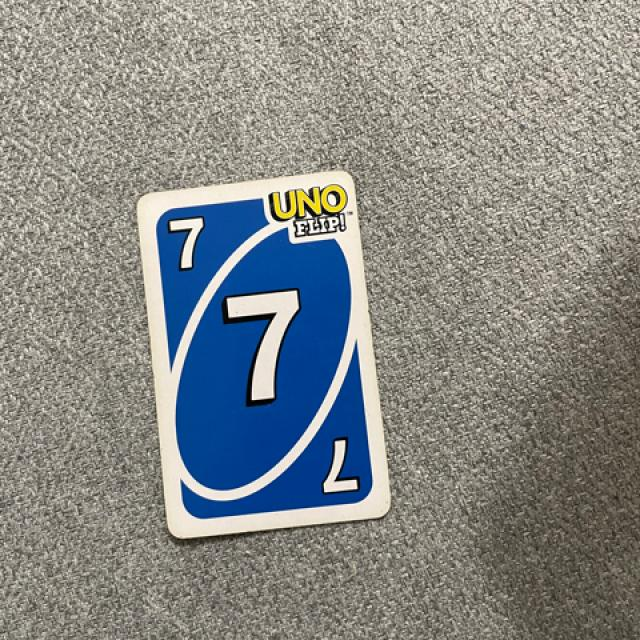lblue-7: (152, 204, 230, 282)
